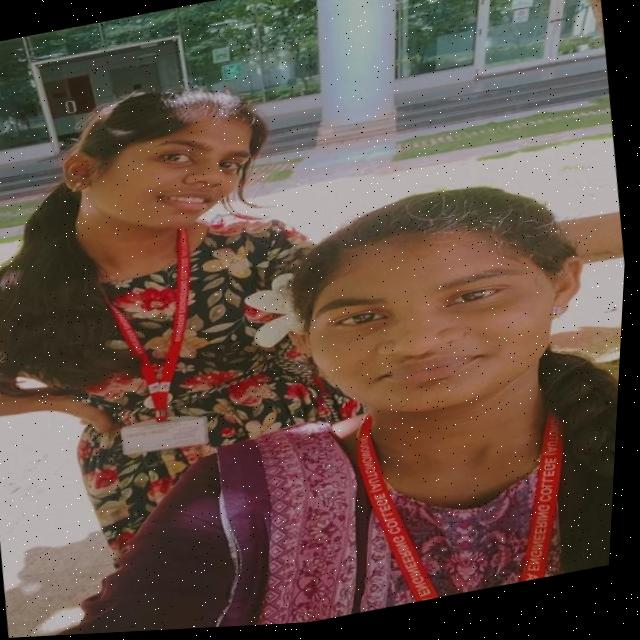id_card: (62, 232, 237, 474)
